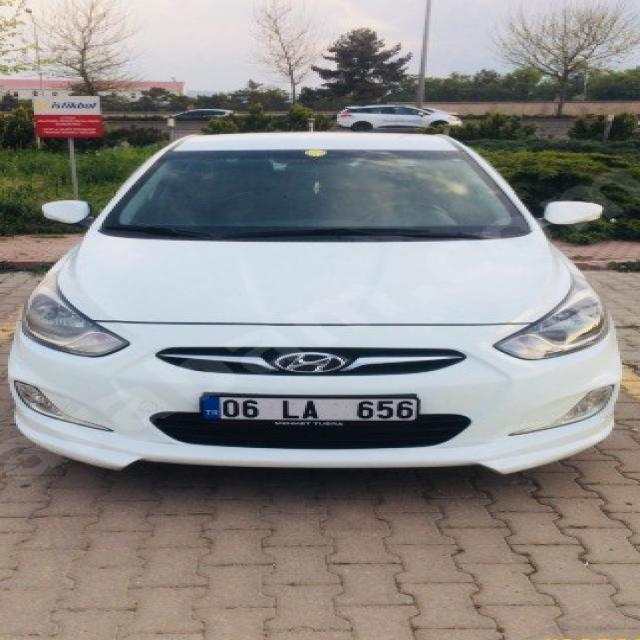license_plate: (201, 396, 417, 421)
